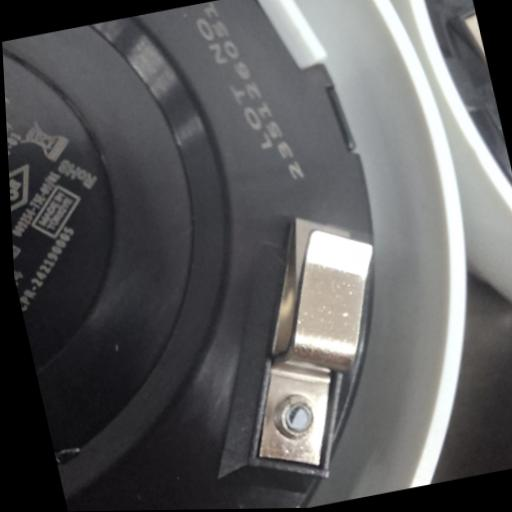yayli: (199, 204, 417, 483)
